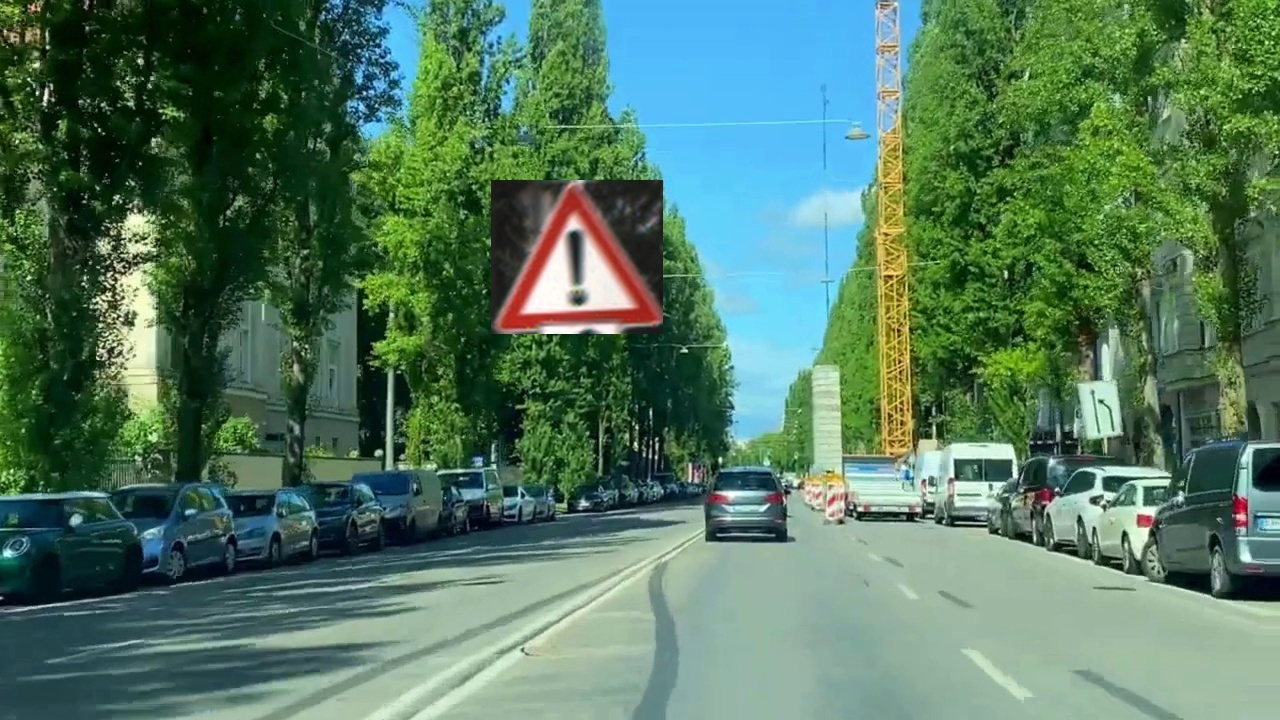Caution: (491, 180, 663, 334)
